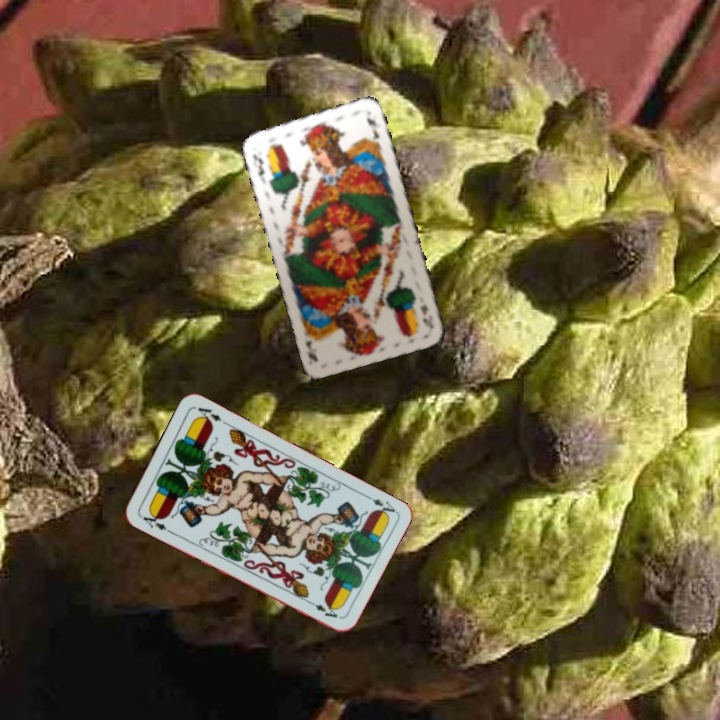EA: (360, 490, 398, 519), (136, 508, 174, 536)
EK: (416, 300, 436, 330), (249, 150, 267, 181)
